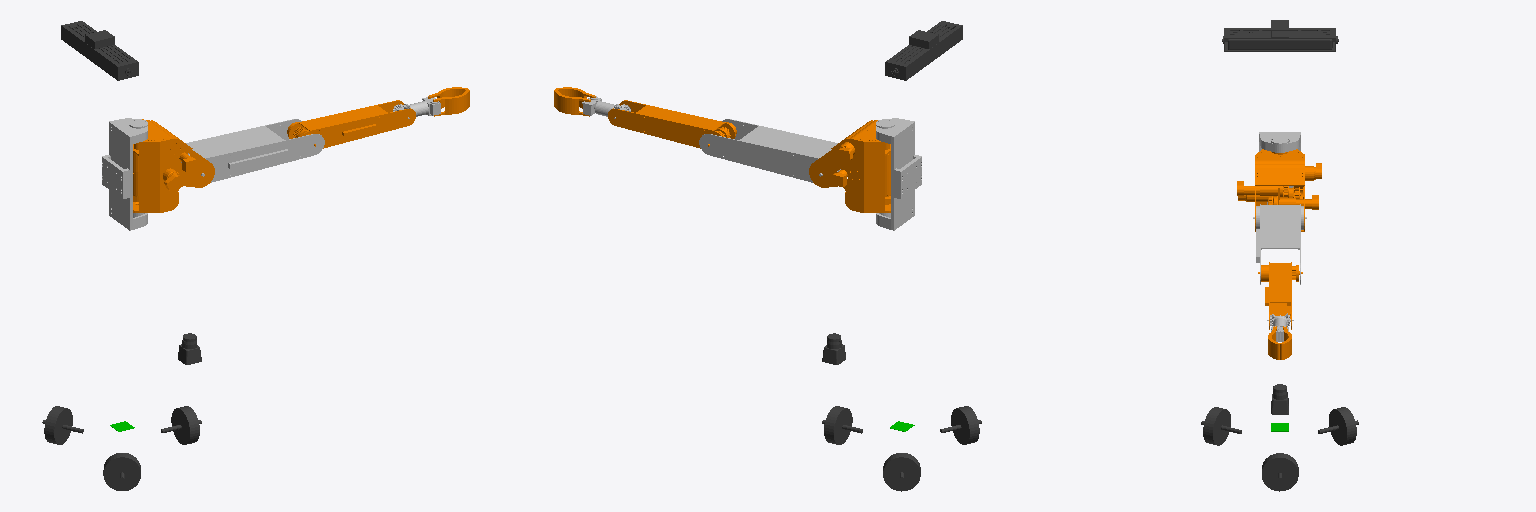
The robot description file, URDF, robot "xmbot":
<?xml version="1.0" ?>
<!-- =================================================================================== -->
<!-- |    This document was autogenerated by xacro from xmbot_with_arm.xacro           | -->
<!-- |    EDITING THIS FILE BY HAND IS NOT RECOMMENDED                                 | -->
<!-- =================================================================================== -->
<robot name="xmbot" xmlns:xacro="http://www.ros.org/wiki/xacro">
  <!-- The following xacro:include files set up definitions of parts of the robot body -->
  <!-- Put all the color definitions in a separate file -->
  <material name="DarkBlack">
    <color rgba="0.0 0.0 0.0 1.0"/>
  </material>
  <material name="Black">
    <color rgba="0.2 0.2 0.2 1.0"/>
  </material>
  <material name="TransparentBlack">
    <color rgba="0.2 0.2 0.2 0.8"/>
  </material>
  <material name="Orange">
    <color rgba="1.0 0.55 0.0 1.0"/>
  </material>
  <material name="Grey">
    <color rgba="0.7 0.7 0.7 1.0"/>
  </material>
  <material name="DarkGrey">
    <color rgba="0.3 0.3 0.3 1.0"/>
  </material>
  <material name="Red">
    <color rgba="0.8 0.0 0.0 1.0"/>
  </material>
  <material name="White">
    <color rgba="1.0 1.0 1.0 1.0"/>
  </material>
  <material name="OffWhite">
    <color rgba="0.8 0.8 0.8 1.0"/>
  </material>
  <material name="Blue">
    <color rgba="0.0 0.0 0.8 1.0"/>
  </material>
  <material name="Green">
    <color rgba="0.0 0.8 0.0 1.0"/>
  </material>
  <material name="TransparentGreen">
    <color rgba="0.0 0.8 0.0 0.5"/>
  </material>
  <!-- The base xacro macro -->
  <link name="base_footprint">
    <visual>
      <origin rpy="0 0 0" xyz="0 0 0"/>
      <geometry>
        <box size="0.05 0.05 0.001"/>
      </geometry>
      <material name="TransparentGreen"/>
    </visual>
  </link>
  <joint name="base_joint" type="fixed">
    <origin rpy="0 0 0" xyz="0 0 0"/>
    <parent link="base_footprint"/>
    <child link="base_link"/>
  </joint>
  <!-- The wheel xacro macro -->
  <!--The lift xacro macro-->
  <!--The waist xacro macro-->
  <!--The big_arm xacro macro-->
  <!--The forearm xacro macro-->
  <!--The wristing_pitching xacro macro-->
  <!--The wristing_rotation xacro macro-->
  <!--The finger_left xacro macro-->
  <!--The finger_right xacro macro-->
  <!--The gripper_frame xacro macro-->
  <!--The kinect xacro macro-->
  <joint name="kinect_depth_joint" type="fixed">
    <origin rpy="-1.57079632679 0 -1.57079632679" xyz="0 0 0"/>
    <parent link="link_kinect"/>
    <child link="link_kinect_depth"/>
  </joint>
  <link name="link_kinect_depth"/>
  <!--The laser xacro macro-->
  <!-- Attach the base -->
  <link name="base_link">
    <inertial>
      <origin rpy="0 0 0" xyz="-0.030096 -0.00033289 0.43437"/>
      <mass value="28.429"/>
      <inertia ixx="3.3043" ixy="0.00011321" ixz="-0.22301" iyy="3.3216" iyz="0.0036429" izz="0.40235"/>
    </inertial>
    <visual>
      <origin rpy="0 0 0" xyz="0 0 0"/>
      <geometry>
        <mesh filename="package://xm_arm_description/meshes/base_link.stl"/>
      </geometry>
      <material name="DarkGrey"/>
    </visual>
    <collision>
      <origin rpy="0 0 0" xyz="0 0 0"/>
      <geometry>
        <mesh filename="package://xm_arm_description/meshes/base_link_l.stl"/>
      </geometry>
    </collision>
  </link>
  <!-- Add the drive wheels -->
  <joint name="joint_wheel_1" type="fixed">
    <origin rpy="-1.5708 0 -1.5708" xyz="0.19419 0.00022708 -0.042"/>
    <parent link="base_link"/>
    <child link="link_wheel_1"/>
    <axis xyz="0 0 1"/>
  </joint>
  <link name="link_wheel_1">
    <inertial>
      <origin rpy="0 0 0" xyz="8.0491E-16 -1.3878E-17 -0.0042221"/>
      <mass value="0.34065"/>
      <inertia ixx="0.00030696" ixy="-3.4634e-22" ixz="-7.3136e-19" iyy="0.00030696" iyz="8.9342e-21" izz="0.00029643"/>
    </inertial>
    <visual>
      <origin rpy="0 0 0" xyz="0 0 0"/>
      <geometry>
        <mesh filename="package://xm_arm_description/meshes/link_wheel_1.stl"/>
      </geometry>
      <material name="DarkGrey"/>
    </visual>
    <collision>
      <origin rpy="0 0 0" xyz="0 0 0"/>
      <geometry>
        <mesh filename="package://xm_arm_description/meshes/link_wheel_1_l.stl"/>
      </geometry>
    </collision>
  </link>
  <joint name="joint_wheel_2" type="fixed">
    <origin rpy="-1.5708 0 2.618" xyz="-0.096968 -0.16833 -0.042"/>
    <parent link="base_link"/>
    <child link="link_wheel_2"/>
    <axis xyz="0 0 1"/>
  </joint>
  <link name="link_wheel_2">
    <inertial>
      <origin rpy="0 0 0" xyz="-1.3878E-17 1.3878E-17 -0.0042221"/>
      <mass value="0.34065"/>
      <inertia ixx="0.00030696" ixy="1.0391e-20" ixz="1.3553e-20" iyy="0.00030696" iyz="4.616e-21" izz="0.00029643"/>
    </inertial>
    <visual>
      <origin rpy="0 0 0" xyz="0 0 0"/>
      <geometry>
        <mesh filename="package://xm_arm_description/meshes/link_wheel_2.stl"/>
      </geometry>
      <material name="DarkGrey"/>
    </visual>
    <collision>
      <origin rpy="0 0 0" xyz="0 0 0"/>
      <geometry>
        <mesh filename="package://xm_arm_description/meshes/link_wheel_2_l.stl"/>
      </geometry>
    </collision>
  </link>
  <joint name="joint_wheel_3" type="fixed">
    <origin rpy="-1.5708 0 0.5236" xyz="-0.097362 0.1681 -0.042"/>
    <parent link="base_link"/>
    <child link="link_wheel_3"/>
    <axis xyz="0 0 1"/>
  </joint>
  <link name="link_wheel_3">
    <inertial>
      <origin rpy="0 0 0" xyz="1.4572E-15 0 -0.0042221"/>
      <mass value="0.34065"/>
      <inertia ixx="0.00030696" ixy="-3.3256e-21" ixz="2.7105e-20" iyy="0.00030696" iyz="-1.1933e-20" izz="0.00029643"/>
    </inertial>
    <visual>
      <origin rpy="0 0 0" xyz="0 0 0"/>
      <geometry>
        <mesh filename="package://xm_arm_description/meshes/link_wheel_3.stl"/>
      </geometry>
      <material name="DarkGrey"/>
    </visual>
    <collision>
      <origin rpy="0 0 0" xyz="0 0 0"/>
      <geometry>
        <mesh filename="package://xm_arm_description/meshes/link_wheel_3_l.stl"/>
      </geometry>
    </collision>
  </link>
  <!-- Attach the arm -->
  <joint name="joint_lift" type="prismatic">
    <origin rpy="-2.7756E-17 0 -1.5708" xyz="-0.04456 0.00022708 0.72985"/>
    <parent link="base_link"/>
    <child link="link_lift"/>
    <axis xyz="0 0 -1"/>
    <limit effort="500" lower="-0.15" upper="0.15" velocity="1"/>
  </joint>
  <link name="link_lift">
    <inertial>
      <origin rpy="0 0 0" xyz="-8.3267E-17 0.048515 0.0020048"/>
      <mass value="1.7076"/>
      <inertia ixx="0.015015" ixy="2.1531E-18" ixz="-3.952E-19" iyy="0.015774" iyz="-8.1536E-05" izz="0.0028516"/>
    </inertial>
    <visual>
      <origin rpy="0 0 0" xyz="0 0 0"/>
      <geometry>
        <mesh filename="package://xm_arm_description/meshes/link_lift.stl"/>
      </geometry>
      <material name="OffWhite"/>
    </visual>
    <collision>
      <origin rpy="0 0 0" xyz="0 0 0"/>
      <geometry>
        <mesh filename="package://xm_arm_description/meshes/link_lift_l.stl"/>
      </geometry>
    </collision>
  </link>
  <joint name="joint_waist" type="revolute">
    <origin rpy="2.7756E-17 1.3056E-31 -2.8372E-16" xyz="0 0.0945 0.00415"/>
    <parent link="link_lift"/>
    <child link="link_waist"/>
    <axis xyz="0 0 1"/>
    <limit effort="500" lower="-1.047" upper="1.047" velocity="1"/>
  </joint>
  <link name="link_waist">
    <inertial>
      <origin rpy="0 0 0" xyz="0.00035629 0.050223 0.014835"/>
      <mass value="2.2632"/>
      <inertia ixx="0.014881" ixy="2.8517E-05" ixz="-0.00013888" iyy="0.015217" iyz="0.00052947" izz="0.0095668"/>
    </inertial>
    <visual>
      <origin rpy="0 0 0" xyz="0 0 0"/>
      <geometry>
        <mesh filename="package://xm_arm_description/meshes/link_waist.stl"/>
      </geometry>
      <material name="Orange"/>
    </visual>
    <collision>
      <origin rpy="0 0 0" xyz="0 0 0"/>
      <geometry>
        <mesh filename="package://xm_arm_description/meshes/link_waist_l.stl"/>
      </geometry>
    </collision>
  </link>
  <joint name="joint_big_arm" type="revolute">
    <origin rpy="1.5708 -7.7037E-34 1.5708" xyz="0 0.15678 -0.018"/>
    <parent link="link_waist"/>
    <child link="link_big_arm"/>
    <axis xyz="0 0 1"/>
    <limit effort="500" lower="-1.920" upper="1.396" velocity="1"/>
  </joint>
  <link name="link_big_arm">
    <inertial>
      <origin rpy="0 0 0" xyz="0.095008 0.006168 0.0026321"/>
      <mass value="1.2241"/>
      <inertia ixx="0.0030013" ixy="0.00024375" ixz="0.0004659" iyy="0.017469" iyz="-1.9873E-05" izz="0.015447"/>
    </inertial>
    <visual>
      <origin rpy="0 0 0" xyz="0 0 0"/>
      <geometry>
        <mesh filename="package://xm_arm_description/meshes/link_big_arm.stl"/>
      </geometry>
      <material name="OffWhite"/>
    </visual>
    <collision>
      <origin rpy="0 0 0" xyz="0 0 0"/>
      <geometry>
        <mesh filename="package://xm_arm_description/meshes/link_big_arm_l.stl"/>
      </geometry>
    </collision>
  </link>
  <joint name="joint_forearm" type="revolute">
    <origin rpy="-6.4095E-31 2.2204E-16 -7.7037E-34" xyz="0.35 0 0"/>
    <parent link="link_big_arm"/>
    <child link="link_forearm"/>
    <axis xyz="0 0 -1"/>
    <limit effort="500" lower="-2.234" upper="2.234" velocity="1"/>
  </joint>
  <link name="link_forearm">
    <inertial>
      <origin rpy="0 0 0" xyz="0.099759 -2.2204E-16 0.00013669"/>
      <mass value="0.70102"/>
      <inertia ixx="0.00073291" ixy="5.0551E-18" ixz="4.274E-05" iyy="0.0069521" iyz="7.8112E-19" izz="0.0066437"/>
    </inertial>
    <visual>
      <origin rpy="0 0 0" xyz="0 0 0"/>
      <geometry>
        <mesh filename="package://xm_arm_description/meshes/link_forearm.stl"/>
      </geometry>
      <material name="Orange"/>
    </visual>
    <collision>
      <origin rpy="0 0 0" xyz="0 0 0"/>
      <geometry>
        <mesh filename="package://xm_arm_description/meshes/link_forearm_l.stl"/>
      </geometry>
    </collision>
  </link>
  <joint name="joint_wrist_pitching" type="revolute">
    <origin rpy="0 0 1.5708" xyz="0.3 0 0"/>
    <parent link="link_forearm"/>
    <child link="link_wrist_pitching"/>
    <axis xyz="0 0 -1"/>
    <limit effort="500" lower="-2.182" upper="2.182" velocity="1"/>
  </joint>
  <link name="link_wrist_pitching">
    <inertial>
      <origin rpy="0 0 0" xyz="1.7127E-09 -0.00034153 -1.195E-06"/>
      <mass value="0.037514"/>
      <inertia ixx="1.063E-05" ixy="1.0698E-13" ixz="-4.4237E-13" iyy="1.0507E-05" iyz="-1.5531E-11" izz="3.2674E-06"/>
    </inertial>
    <visual>
      <origin rpy="0 0 0" xyz="0 0 0"/>
      <geometry>
        <mesh filename="package://xm_arm_description/meshes/link_wrist_pitching.stl"/>
      </geometry>
      <material name="OffWhite"/>
    </visual>
    <collision>
      <origin rpy="0 0 0" xyz="0 0 0"/>
      <geometry>
        <mesh filename="package://xm_arm_description/meshes/link_wrist_pitching_l.stl"/>
      </geometry>
    </collision>
  </link>
  <joint name="joint_wrist_rotation" type="continuous">
    <origin rpy="1.5708 -1.5708 0" xyz="0 0 0"/>
    <parent link="link_wrist_pitching"/>
    <child link="link_wrist_rotation"/>
    <axis xyz="0 0 1"/>
    <limit effort="500" velocity="1"/>
  </joint>
  <link name="link_wrist_rotation">
    <inertial>
      <origin rpy="0 0 0" xyz="0.00041743 -0.00042922 0.069037"/>
      <mass value="0.12901"/>
      <inertia ixx="0.00010496" ixy="-2.1936E-07" ixz="5.5636E-07" iyy="0.00011251" iyz="-1.2571E-06" izz="3.1759E-05"/>
    </inertial>
    <visual>
      <origin rpy="0 0 0" xyz="0 0 0"/>
      <geometry>
        <mesh filename="package://xm_arm_description/meshes/link_wrist_rotation.stl"/>
      </geometry>
      <material name="OffWhite"/>
    </visual>
    <collision>
      <origin rpy="0 0 0" xyz="0 0 0"/>
      <geometry>
        <mesh filename="package://xm_arm_description/meshes/link_wrist_rotation_l.stl"/>
      </geometry>
    </collision>
  </link>
  <!-- Attach the gripper -->
  <joint name="joint_finger_left" type="revolute">
    <origin rpy="1.5708 -1.5708 0" xyz="-0.01295 -0.00014458 0.091042"/>
    <parent link="link_wrist_rotation"/>
    <child link="link_finger_left"/>
    <axis xyz="0 0 -1"/>
    <limit effort="500" lower="-1.571" upper="0" velocity="1"/>
  </joint>
  <link name="link_finger_left">
    <inertial>
      <origin rpy="0 0 0" xyz="0.067181 0.0073582 -2.014E-08"/>
      <mass value="0.054127"/>
      <inertia ixx="1.3972E-05" ixy="-3.6354E-06" ixz="-1.1594E-10" iyy="5.1741E-05" iyz="-1.601E-12" izz="4.3944E-05"/>
    </inertial>
    <visual>
      <origin rpy="0 0 0" xyz="0 0 0"/>
      <geometry>
        <mesh filename="package://xm_arm_description/meshes/link_finger_left.stl"/>
      </geometry>
      <material name="Orange"/>
    </visual>
    <collision>
      <origin rpy="0 0 0" xyz="0 0 0"/>
      <geometry>
        <mesh filename="package://xm_arm_description/meshes/link_finger_left_l.stl"/>
      </geometry>
    </collision>
  </link>
  <joint name="joint_finger_right" type="revolute">
    <origin rpy="1.5708 -1.5708 0" xyz="0.01295 -0.00014458 0.091042"/>
    <parent link="link_wrist_rotation"/>
    <child link="link_finger_right"/>
    <axis xyz="0 0 -1"/>
    <limit effort="500" lower="0" upper="1.571" velocity="1"/>
  </joint>
  <link name="link_finger_right">
    <inertial>
      <origin rpy="0 0 0" xyz="0.067181 -0.0073582 2.014E-08"/>
      <mass value="0.054127"/>
      <inertia ixx="1.3972E-05" ixy="3.6354E-06" ixz="1.1594E-10" iyy="5.1741E-05" iyz="-1.601E-12" izz="4.3944E-05"/>
    </inertial>
    <visual>
      <origin rpy="0 0 0" xyz="0 0 0"/>
      <geometry>
        <mesh filename="package://xm_arm_description/meshes/link_finger_right.stl"/>
      </geometry>
      <material name="Orange"/>
    </visual>
    <collision>
      <origin rpy="0 0 0" xyz="0 0 0"/>
      <geometry>
        <mesh filename="package://xm_arm_description/meshes/link_finger_right_l.stl"/>
      </geometry>
    </collision>
  </link>
  <joint name="joint_gripper_frame" type="fixed">
    <origin rpy="0 0 0" xyz="0 0 0.16"/>
    <parent link="link_wrist_rotation"/>
    <child link="link_gripper_frame"/>
  </joint>
  <link name="link_gripper_frame">
    <inertial>
      <origin rpy="0 0 0" xyz="0 0 0"/>
      <mass value="0.0001"/>
      <inertia ixx="0.0" ixy="0.0" ixz="0.0" iyy="0.0" iyz="0.0" izz="0.0"/>
    </inertial>
  </link>
  <!-- Attach the kinect -->
  <joint name="joint_kinect" type="fixed">
    <origin rpy="1.5708 0 -6.1679E-17" xyz="-0.06656 0.00022708 1.1145"/>
    <parent link="base_link"/>
    <child link="link_kinect"/>
    <axis xyz="0 0 1"/>
    <limit effort="500" lower="-0.523" upper="0.523" velocity="1"/>
  </joint>
  <link name="link_kinect">
    <inertial>
      <origin rpy="0 0 0" xyz="0.00024993 -0.00050157 -3.2753E-09"/>
      <mass value="1.3398"/>
      <inertia ixx="0.007821" ixy="-3.6481E-06" ixz="1.9233E-11" iyy="0.0080704" iyz="7.704E-11" izz="0.00058859"/>
    </inertial>
    <visual>
      <origin rpy="0 0 0" xyz="0 0 0"/>
      <geometry>
        <mesh filename="package://xm_arm_description/meshes/link_kinect.stl"/>
      </geometry>
      <material name="DarkGrey"/>
    </visual>
    <collision>
      <origin rpy="0 0 0" xyz="0 0 0"/>
      <geometry>
        <mesh filename="package://xm_arm_description/meshes/link_kinect_l.stl"/>
      </geometry>
    </collision>
  </link>
  <!-- Attach the laser -->
  <joint name="joint_laser" type="fixed">
    <origin rpy="-6.7054E-18 6.9389E-17 -1.5708" xyz="0.20674 0.00022708 0.181"/>
    <parent link="base_link"/>
    <child link="link_laser"/>
    <axis xyz="0 0 0"/>
  </joint>
  <link name="link_laser">
    <inertial>
      <origin rpy="0 0 0" xyz="0 -3.8367E-05 -0.0055273"/>
      <mass value="0.1221"/>
      <inertia ixx="6.4774E-05" ixy="-4.322E-13" ixz="7.0123E-21" iyy="6.4681E-05" iyz="-1.0865E-07" izz="3.7788E-05"/>
    </inertial>
    <visual>
      <origin rpy="0 0 0" xyz="0 0 0"/>
      <geometry>
        <mesh filename="package://xm_arm_description/meshes/link_laser.stl"/>
      </geometry>
      <material name="DarkGrey"/>
    </visual>
    <collision>
      <origin rpy="0 0 0" xyz="0 0 0"/>
      <geometry>
        <mesh filename="package://xm_arm_description/meshes/link_laser_l.stl"/>
      </geometry>
    </collision>
  </link>
  <gazebo reference="base_link">
    <kp>10000.0</kp>
    <kd>10.0</kd>
    <mu1>0.1</mu1>
    <mu2>0.1</mu2>
    <fdir1>1 0 0</fdir1>
    <maxVel>10.0</maxVel>
    <minDepth>0.0005</minDepth>
    <material>Gazebo/Grey</material>
  </gazebo>
  <gazebo reference="link_wheel_1">
    <kp>500000.0</kp>
    <kd>10.0</kd>
    <mu1>10</mu1>
    <mu2>10</mu2>
    <fdir1>1 0 0</fdir1>
    <maxVel>1.0</maxVel>
    <minDepth>0.003</minDepth>
    <material>Gazebo/Grey</material>
  </gazebo>
  <gazebo reference="link_wheel_2">
    <kp>500000.0</kp>
    <kd>10.0</kd>
    <mu1>10</mu1>
    <mu2>10</mu2>
    <fdir1>1 0 0</fdir1>
    <maxVel>1.0</maxVel>
    <minDepth>0.003</minDepth>
    <material>Gazebo/Grey</material>
  </gazebo>
  <gazebo reference="link_wheel_3">
    <kp>500000.0</kp>
    <kd>10.0</kd>
    <mu1>10</mu1>
    <mu2>10</mu2>
    <fdir1>1 0 0</fdir1>
    <maxVel>1.0</maxVel>
    <minDepth>0.003</minDepth>
    <material>Gazebo/Grey</material>
  </gazebo>
  <gazebo reference="joint_wheel_1">
    <implicitSpringDamper>1</implicitSpringDamper>
  </gazebo>
  <gazebo reference="joint_wheel_2">
    <implicitSpringDamper>1</implicitSpringDamper>
  </gazebo>
  <gazebo reference="joint_wheel_3">
    <implicitSpringDamper>1</implicitSpringDamper>
  </gazebo>
  <gazebo reference="link_lift">
    <material>Gazebo/White</material>
  </gazebo>
  <gazebo reference="link_waist">
    <material>Gazebo/Orange</material>
  </gazebo>
  <gazebo reference="link_big_arm">
    <material>Gazebo/White</material>
  </gazebo>
  <gazebo reference="link_forearm">
    <material>Gazebo/Orange</material>
  </gazebo>
  <gazebo reference="link_wrist_pitching">
    <material>Gazebo/White</material>
  </gazebo>
  <gazebo reference="link_wrist_rotation">
    <material>Gazebo/White</material>
  </gazebo>
  <gazebo reference="link_finger_left">
    <kp>1000000.0</kp>
    <kd>100.0</kd>
    <mu1>30.0</mu1>
    <mu2>30.0</mu2>
    <maxVel>1.0</maxVel>
    <minDepth>0.001</minDepth>
    <material>Gazebo/Orange</material>
  </gazebo>
  <gazebo reference="link_finger_right">
    <kp>1000000.0</kp>
    <kd>100.0</kd>
    <mu1>30.0</mu1>
    <mu2>30.0</mu2>
    <maxVel>1.0</maxVel>
    <minDepth>0.001</minDepth>
    <material>Gazebo/Orange</material>
  </gazebo>
  <gazebo reference="link_gripper_frame">
    <material>Gazebo/White</material>
  </gazebo>
  <gazebo reference="link_laser">
    <material>Gazebo/Grey</material>
  </gazebo>
  <gazebo reference="link_kinect">
    <material>Gazebo/Grey</material>
  </gazebo>
  <gazebo reference="link_kinect">
    <sensor name="kinect" type="depth">
      <update_rate>20</update_rate>
      <camera>
        <horizontal_fov>1.0471975512</horizontal_fov>
        <image>
          <format>R8G8B8</format>
          <width>640</width>
          <height>480</height>
        </image>
        <clip>
          <near>0.5</near>
          <far>9</far>
        </clip>
      </camera>
      <plugin filename="libgazebo_ros_openni_kinect.so" name="kinect_controller">
        <baseline>0.1</baseline>
        <alwaysOn>true</alwaysOn>
        <updateRate>15.0</updateRate>
        <cameraName>head_kinect</cameraName>
        <imageTopicName>/head_kinect/rgb/image_raw</imageTopicName>
        <cameraInfoTopicName>/head_kinect/rgb/camera_info</cameraInfoTopicName>
        <depthImageTopicName>/head_kinect/depth/image_raw</depthImageTopicName>
        <depthImageCameraInfoTopicName>/head_kinect/depth/camera_info</depthImageCameraInfoTopicName>
        <pointCloudTopicName>/head_kinect/depth/points</pointCloudTopicName>
        <frameName>link_kinect_depth</frameName>
        <pointCloudCutoff>0.35</pointCloudCutoff>
        <distortionK1>0.00000001</distortionK1>
        <distortionK2>0.00000001</distortionK2>
        <distortionK3>0.00000001</distortionK3>
        <distortionT1>0.00000001</distortionT1>
        <distortionT2>0.00000001</distortionT2>
        <CxPrime>0</CxPrime>
        <Cx>0</Cx>
        <Cy>0</Cy>
        <focalLength>0</focalLength>
        <hackBaseline>0</hackBaseline>
      </plugin>
    </sensor>
  </gazebo>
  <transmission name="lift_simp_tran">
    <type>transmission_interface/SimpleTransmission</type>
    <joint name="joint_lift">
      <hardwareInterface>PositionJointInterface</hardwareInterface>
    </joint>
    <actuator name="lift_motor">
      <hardwareInterface>PositionJointInterface</hardwareInterface>
      <mechanicalReduction>1</mechanicalReduction>
    </actuator>
  </transmission>
  <transmission name="waist_simp_tran">
    <type>transmission_interface/SimpleTransmission</type>
    <joint name="joint_waist">
      <hardwareInterface>PositionJointInterface</hardwareInterface>
    </joint>
    <actuator name="waist_motor">
      <hardwareInterface>PositionJointInterface</hardwareInterface>
      <mechanicalReduction>1</mechanicalReduction>
    </actuator>
  </transmission>
  <transmission name="big_arm_simp_tran">
    <type>transmission_interface/SimpleTransmission</type>
    <joint name="joint_big_arm">
      <hardwareInterface>PositionJointInterface</hardwareInterface>
    </joint>
    <actuator name="big_arm_motor">
      <hardwareInterface>PositionJointInterface</hardwareInterface>
      <mechanicalReduction>1</mechanicalReduction>
    </actuator>
  </transmission>
  <transmission name="forearm_simp_tran">
    <type>transmission_interface/SimpleTransmission</type>
    <joint name="joint_forearm">
      <hardwareInterface>PositionJointInterface</hardwareInterface>
    </joint>
    <actuator name="forearm_motor">
      <hardwareInterface>PositionJointInterface</hardwareInterface>
      <mechanicalReduction>1</mechanicalReduction>
    </actuator>
  </transmission>
  <transmission name="wrist_pitching_simp_tran">
    <type>transmission_interface/SimpleTransmission</type>
    <joint name="joint_wrist_pitching">
      <hardwareInterface>PositionJointInterface</hardwareInterface>
    </joint>
    <actuator name="wrist_motor_1">
      <hardwareInterface>PositionJointInterface</hardwareInterface>
      <mechanicalReduction>1</mechanicalReduction>
    </actuator>
  </transmission>
  <transmission name="wrist_rotation_simp_tran">
    <type>transmission_interface/SimpleTransmission</type>
    <joint name="joint_wrist_rotation">
      <hardwareInterface>PositionJointInterface</hardwareInterface>
    </joint>
    <actuator name="wrist_motor_2">
      <hardwareInterface>PositionJointInterface</hardwareInterface>
      <mechanicalReduction>1</mechanicalReduction>
    </actuator>
  </transmission>
  <transmission name="finger_left_simp_tran">
    <type>transmission_interface/SimpleTransmission</type>
    <joint name="joint_finger_left">
      <hardwareInterface>PositionJointInterface</hardwareInterface>
    </joint>
    <actuator name="finger_left_servo">
      <hardwareInterface>PositionJointInterface</hardwareInterface>
      <mechanicalReduction>1</mechanicalReduction>
    </actuator>
  </transmission>
  <transmission name="finger_right_simp_tran">
    <type>transmission_interface/SimpleTransmission</type>
    <joint name="joint_finger_right">
      <hardwareInterface>PositionJointInterface</hardwareInterface>
    </joint>
    <actuator name="finger_right_servo">
      <hardwareInterface>PositionJointInterface</hardwareInterface>
      <mechanicalReduction>1</mechanicalReduction>
    </actuator>
  </transmission>
  <gazebo>
    <plugin filename="libgazebo_ros_control.so" name="gazebo_ros_control">
      <robotNamespace>/xm_arm</robotNamespace>
      <robotSimType>gazebo_ros_control/DefaultRobotHWSim</robotSimType>
    </plugin>
  </gazebo>
</robot>

--- Render facts (derived) ---
3 views of the same robot in one strip: view 1: azimuth 30°, elevation 25°; view 2: azimuth 150°, elevation 25°; view 3: azimuth 270°, elevation 25° (orthographic).
Robot: xmbot — 17 links, 16 joints (6 revolute, 1 continuous, 1 prismatic, 8 fixed); root link base_footprint; default pose: all joints at 0.
Visible links, largest first — view 1: link_waist, link_big_arm, link_lift, link_forearm, link_kinect, link_wheel_2, link_wheel_3, link_wheel_1, link_laser; view 2: link_waist, link_big_arm, link_lift, link_forearm, link_kinect, link_wheel_3, link_wheel_1, link_wheel_2, link_laser; view 3: link_waist, link_kinect, link_big_arm, link_forearm, link_wheel_1, link_wheel_3, link_wheel_2, link_lift.
Link boxes in pixels (left/top/right/bottom): link_waist: left=133, top=119, right=214, bottom=212; link_big_arm: left=181, top=119, right=324, bottom=182; link_lift: left=102, top=118, right=147, bottom=230; link_forearm: left=287, top=100, right=415, bottom=148; link_kinect: left=61, top=21, right=138, bottom=80; link_wheel_2: left=103, top=453, right=140, bottom=490; link_wheel_3: left=42, top=406, right=83, bottom=444; link_wheel_1: left=161, top=406, right=201, bottom=444; link_laser: left=178, top=333, right=201, bottom=364; link_waist: left=809, top=120, right=890, bottom=212; link_big_arm: left=699, top=119, right=840, bottom=182; link_lift: left=876, top=118, right=921, bottom=230; link_forearm: left=608, top=100, right=736, bottom=148; link_kinect: left=885, top=21, right=962, bottom=80; link_wheel_3: left=883, top=453, right=920, bottom=491; link_wheel_1: left=822, top=406, right=862, bottom=444; link_wheel_2: left=940, top=406, right=981, bottom=444; link_laser: left=822, top=333, right=845, bottom=364; link_waist: left=1237, top=149, right=1321, bottom=231; link_kinect: left=1222, top=20, right=1338, bottom=51; link_big_arm: left=1253, top=204, right=1306, bottom=284; link_forearm: left=1258, top=262, right=1302, bottom=329; link_wheel_1: left=1262, top=453, right=1298, bottom=491; link_wheel_3: left=1318, top=407, right=1358, bottom=445; link_wheel_2: left=1201, top=407, right=1241, bottom=445; link_lift: left=1259, top=132, right=1300, bottom=204.
Bounding box of the posed robot: 1.21 × 0.4229 × 1.25 m (x, y, z).
Meshes: 14 distinct files referenced, 13 mesh visuals loaded (13 binary STL); not drawn: 1 (reference not matched to a file when rendering).